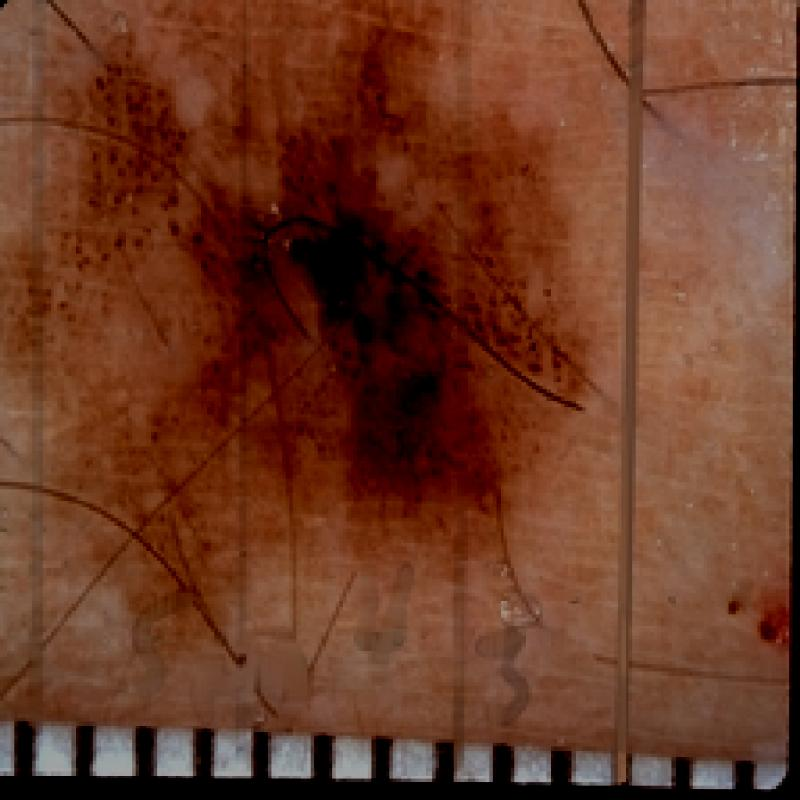malignant: (47, 20, 628, 552)
